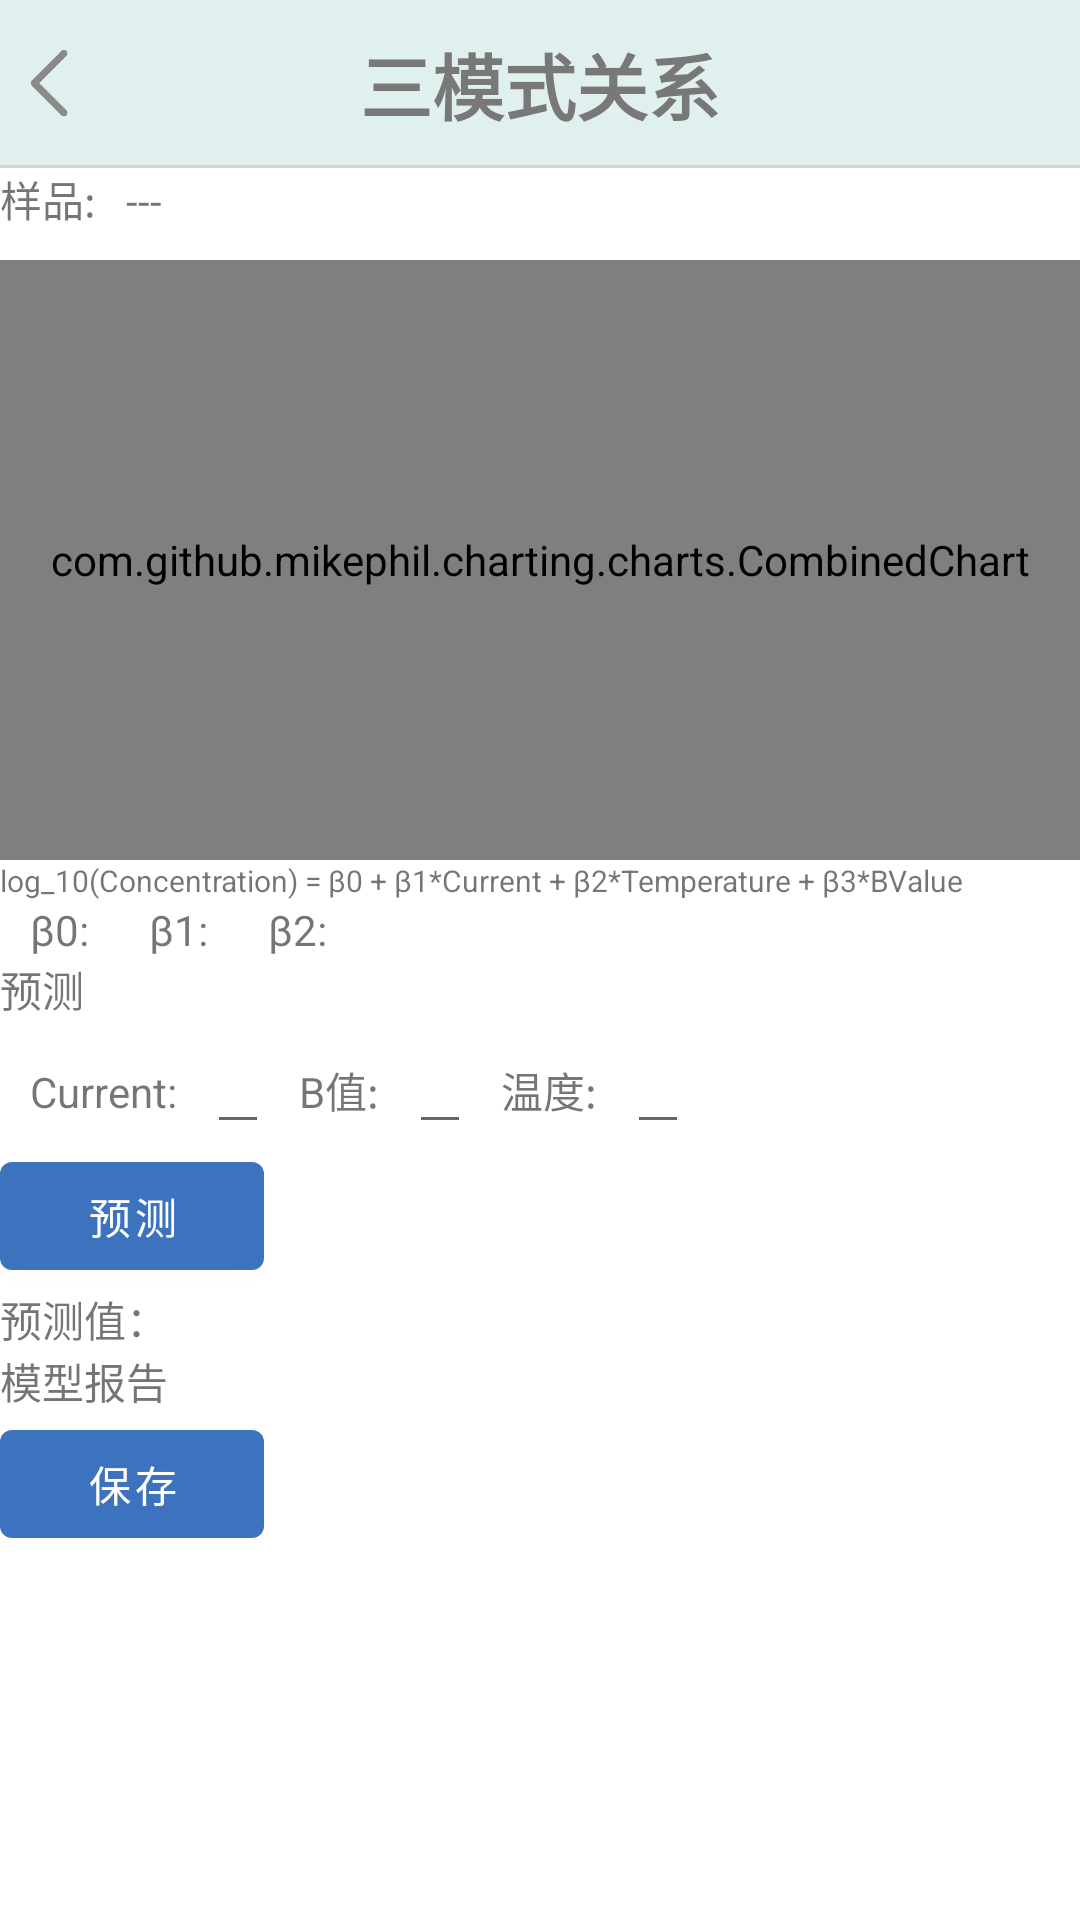

Screen size 1080 x 1920. Icon name, then its box in pixels as (x1, y1, x2, y2):
back: (31, 50, 68, 116)
